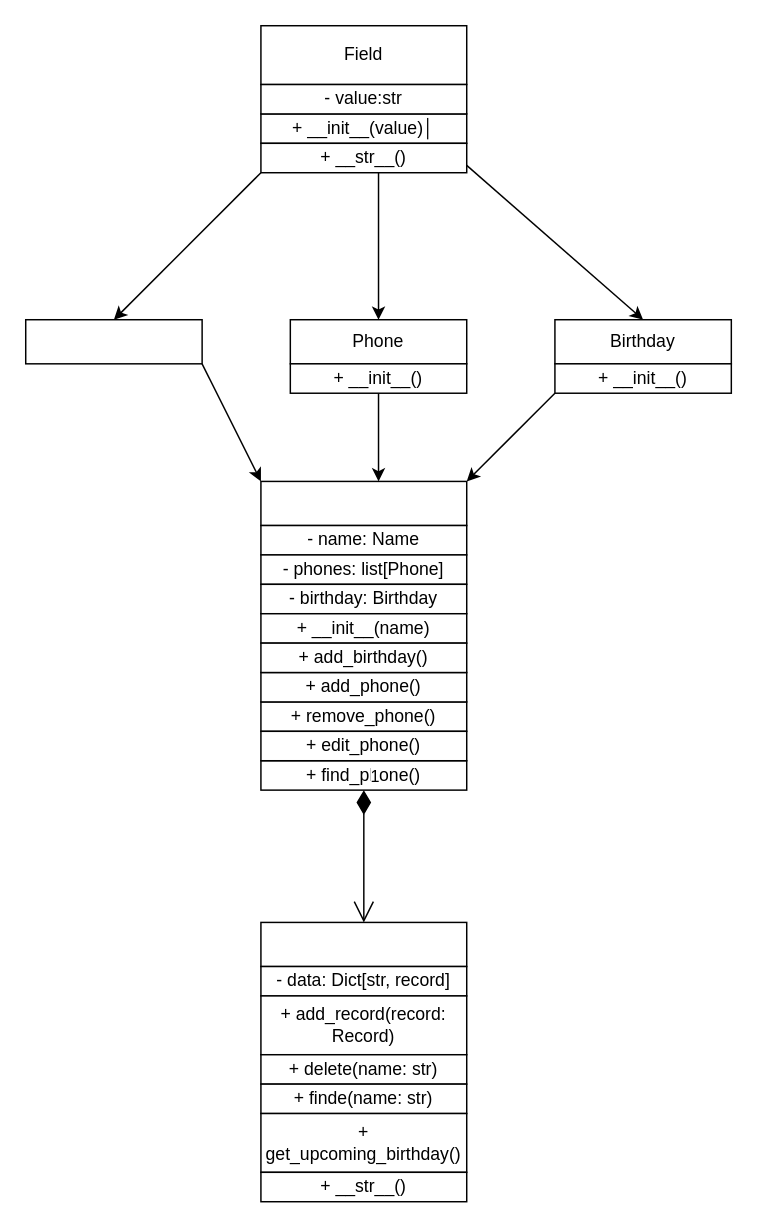
This 757x1227 diagram has some shape labels left out. The shapes that lost their labels are listed below. From the top down, each one's centre as x and y in pixels, then its label:
pixel 113 341: Name
pixel 363 503: Record
pixel 363 944: AddressBook
